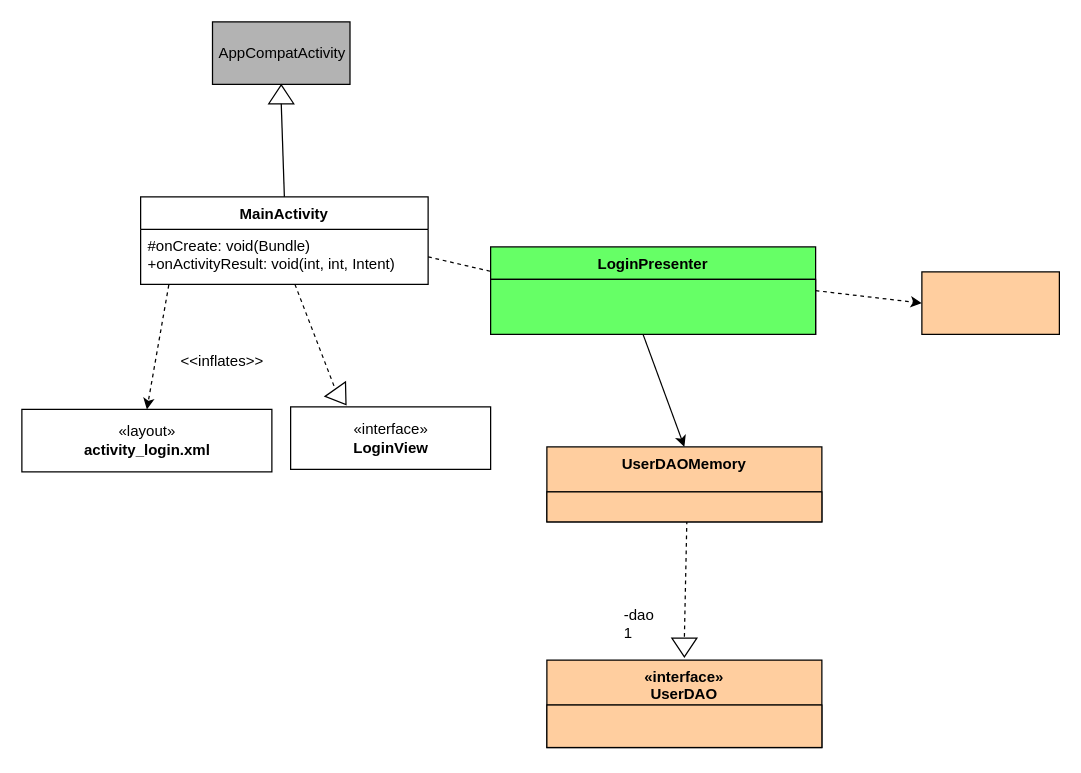
Image size: 1081x773. Some labels were removed from this diagram. The centre of each missing label's shape, as x and y in pixels:
+ login: User(String,String): pixel 684 726
+ login: void(String,String) +signup: void(): pixel 652 306
User: pixel 990 302
